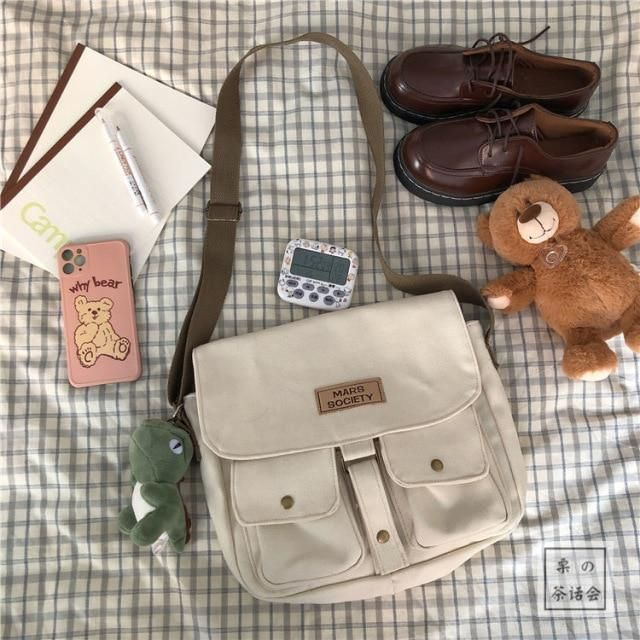nylon: (183, 290, 530, 607)
